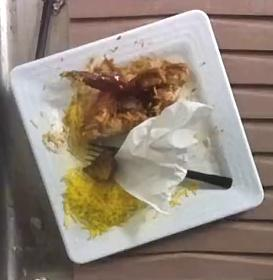chicken: (62, 57, 187, 139)
rice: (63, 168, 143, 235)
